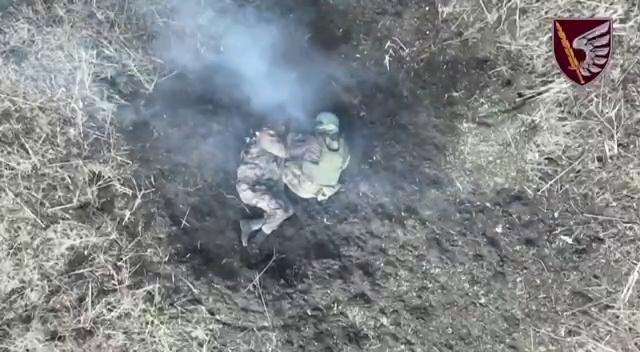person: (239, 116, 293, 250), (284, 112, 346, 200)
